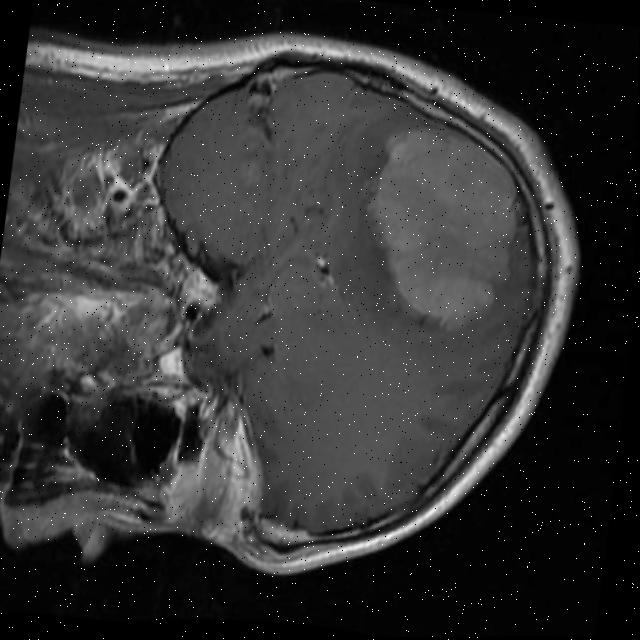Meningioma: (351, 120, 530, 337)
Pituitary: (172, 265, 226, 316)
